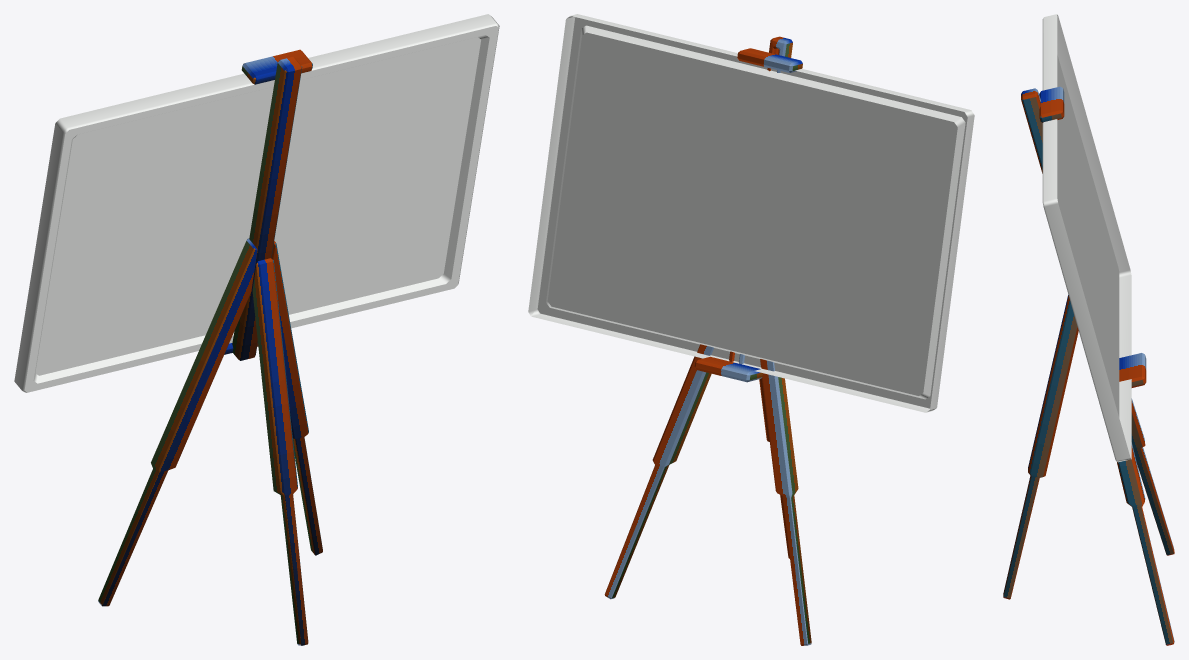
The model's file is Prop_AP31Easel.glb.
3 renders of one model, left to right at view 1: azimuth 30°, elevation 25°; view 2: azimuth 150°, elevation 25°; view 3: azimuth 270°, elevation 25°, orthographic. The views are drawn at different scales.
Visible parts, largest first — view 1: Prop_AP31Easel; view 2: Prop_AP31Easel; view 3: Prop_AP31Easel.
Part boxes in pixels (x1,y1,x2,y2): Prop_AP31Easel: [14, 14, 499, 645]; Prop_AP31Easel: [528, 14, 974, 645]; Prop_AP31Easel: [1003, 14, 1174, 645].
Bounding box in the file's own units: 1.49 × 1.89 × 0.5762.
Materials: 1 (1 with a texture image).
